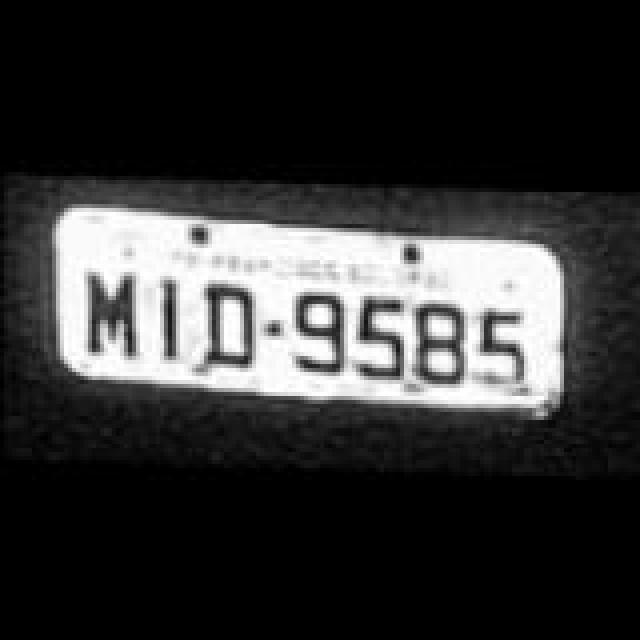1: (154, 274, 186, 358)
5: (356, 292, 408, 376), (476, 306, 528, 386)
8: (416, 298, 468, 382)
9: (294, 290, 350, 374)
D: (202, 278, 258, 362)
M: (88, 266, 140, 354)
